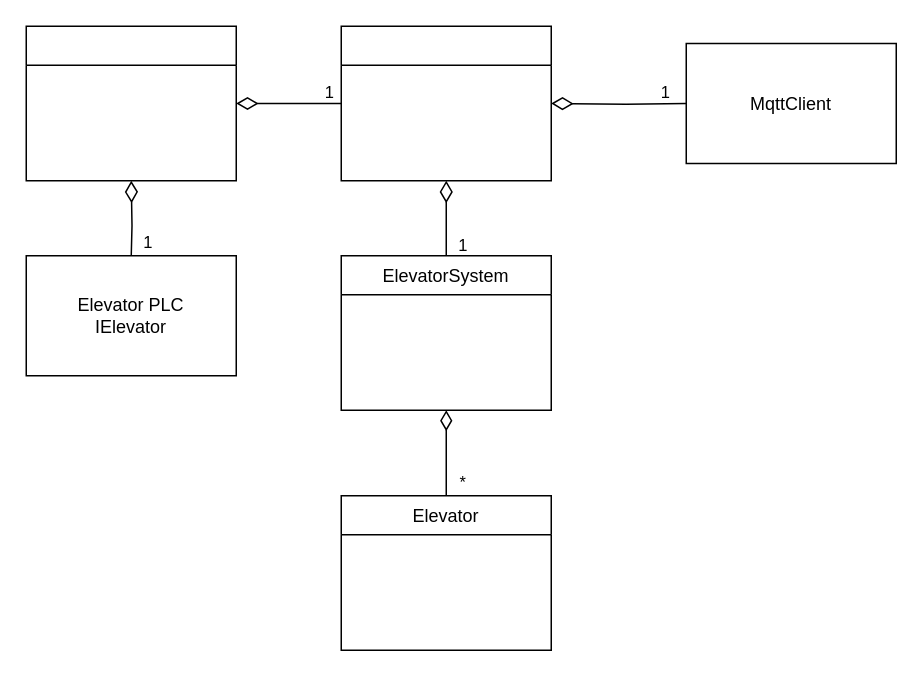
Image size: 923x677. Some labels were removed from this diagram. The shapes that lost their labels are listed below. From the top down, each one's box as (x1, y1, x2, y2) in pixels, then its label:
(25, 25, 236, 181): Main
(340, 25, 551, 181): ElevatorManager
